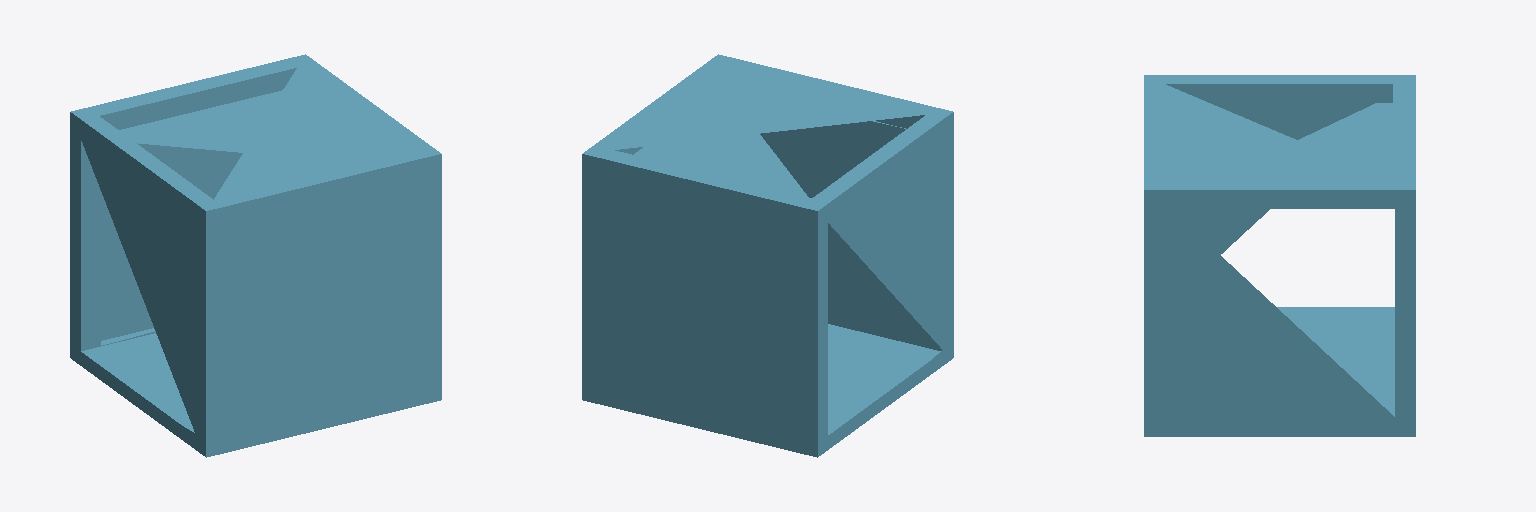
Rendered from Aquarium.obj.
3 views of the same model, side by side, from view 1: azimuth 30°, elevation 25°; view 2: azimuth 150°, elevation 25°; view 3: azimuth 270°, elevation 25° (orthographic).
Visible parts, largest first — view 1: Cube; view 2: Cube; view 3: Cube.
Part boxes in pixels (bbox=[...]): Cube: bbox=[70, 54, 441, 457]; Cube: bbox=[582, 54, 953, 457]; Cube: bbox=[1144, 75, 1415, 436].
Size of the model in its own units: 4 by 4 by 4.